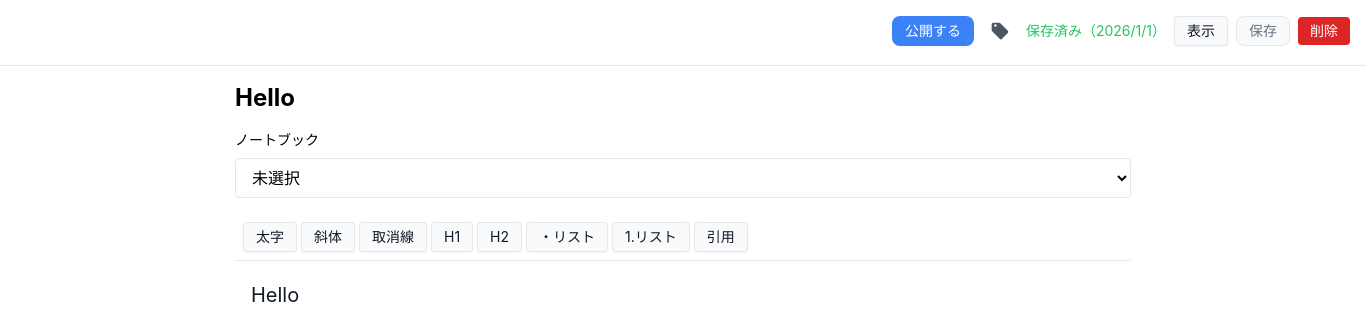
MemoEditor - 保存状態インジケーター › 既存メモを編集すると「未保存」が表示される
Step 1. Replace the text in the field with placeholder "タイトル" with "Hello World" → x=683, y=98, box [235, 82, 1131, 114]
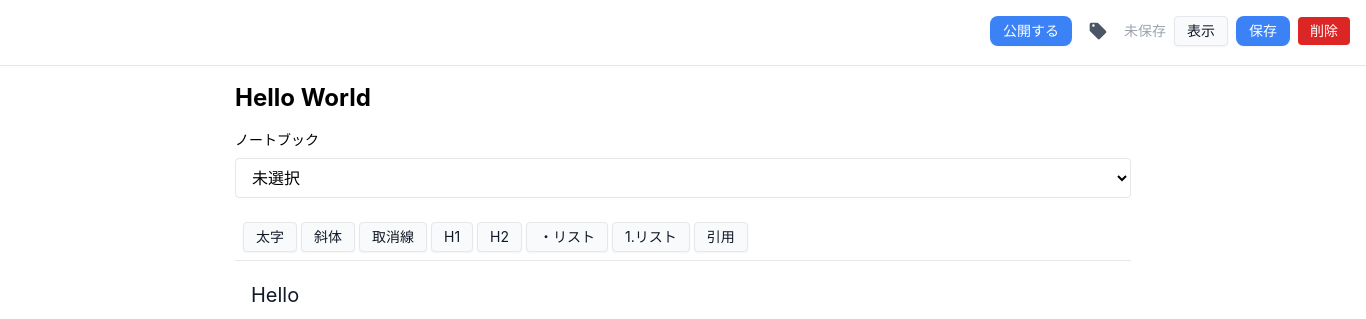
Check: the text with test id "save-status-label" reads "未保存", box [1124, 22, 1166, 39]
